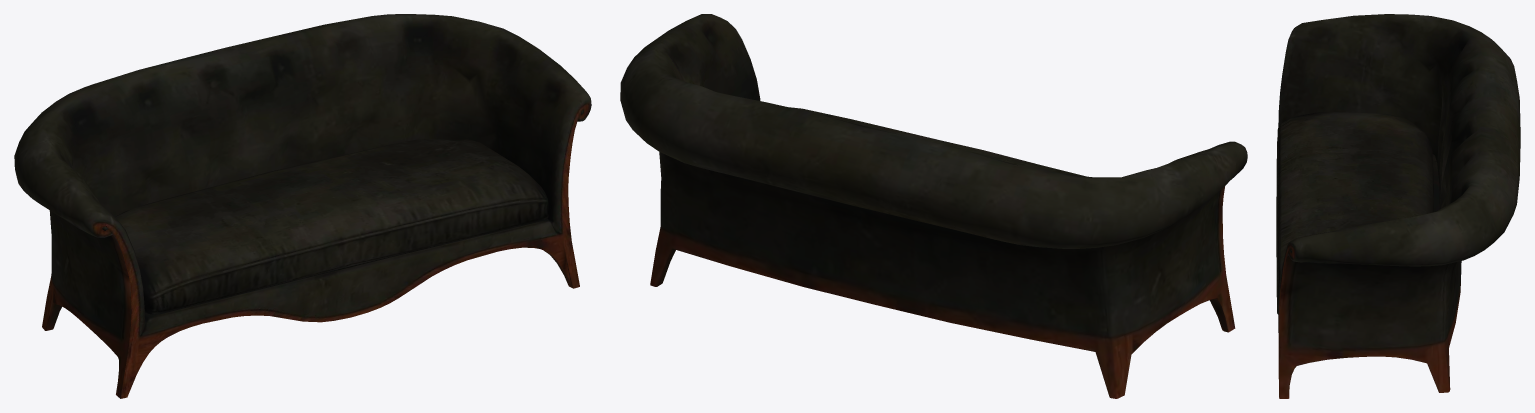
Rendered from sofa.glb.
3 views of the same model, side by side, from view 1: azimuth 30°, elevation 25°; view 2: azimuth 150°, elevation 25°; view 3: azimuth 270°, elevation 25° (orthographic). The views are drawn at different scales.
Parts seen in each view (by area): view 1: sofa_02_Base; view 2: sofa_02_Base; view 3: sofa_02_Base.
Boxes of the visible parts, <box> form: sofa_02_Base: <box>14,14,591,398</box>; sofa_02_Base: <box>620,14,1247,398</box>; sofa_02_Base: <box>1276,14,1520,398</box>.
Size of the model in its own units: 1.81 by 0.7095 by 0.8177.
1 material, 1 textured.
